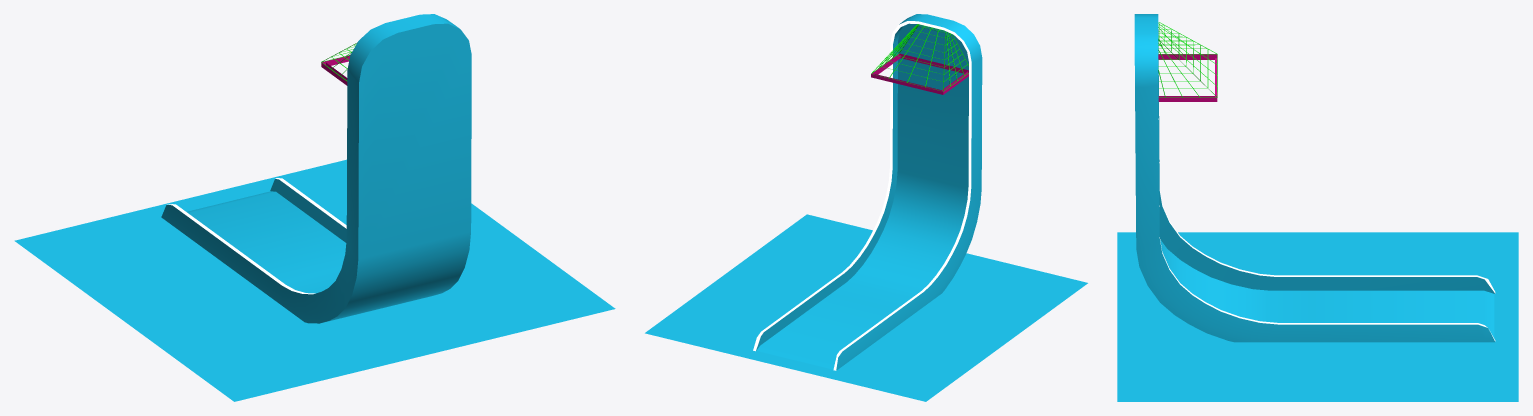
Rendered from TestBase_1.glb.
The picture shows the model from 3 angles, left to right: view 1: azimuth 30°, elevation 25°; view 2: azimuth 150°, elevation 25°; view 3: azimuth 270°, elevation 25°; orthographic projection. The views are drawn at different scales.
Parts seen in each view (by area): view 1: Plane, Cube.001; view 2: Cube.001, Plane, Cube.003, Cube.002; view 3: Plane, Cube.001, Cube.003, Cube.002.
Boxes of the visible parts, bbox=[...] form: Plane: bbox=[14, 159, 615, 401]; Cube.001: bbox=[161, 14, 471, 323]; Cube.001: bbox=[753, 14, 982, 370]; Plane: bbox=[645, 214, 1087, 401]; Cube.003: bbox=[871, 24, 968, 91]; Cube.002: bbox=[871, 53, 968, 94]; Plane: bbox=[1117, 232, 1518, 401]; Cube.001: bbox=[1134, 14, 1495, 342]; Cube.003: bbox=[1158, 22, 1217, 97]; Cube.002: bbox=[1158, 54, 1217, 101].
Size of what is drawn, in the model's own units: 32 by 26.43 by 32.
